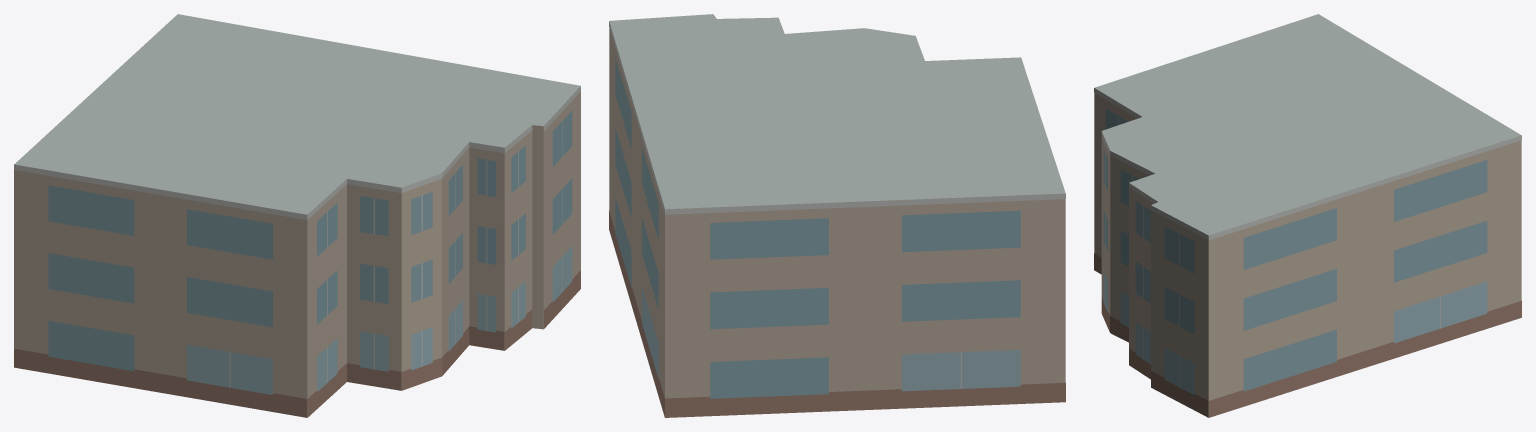
The model's file is survey-upis-32837750.glb.
The picture shows the model from 3 angles, left to right: view 1: azimuth 30°, elevation 25°; view 2: azimuth 150°, elevation 25°; view 3: azimuth 270°, elevation 25°; orthographic projection. The views are drawn at different scales.
Parts seen in each view (by area): view 1: survey-upis-32837750.tmp; view 2: survey-upis-32837750.tmp; view 3: survey-upis-32837750.tmp.
Boxes of the visible parts, box(x1,y1,x2,y2) form: survey-upis-32837750.tmp: box(14, 14, 580, 417); survey-upis-32837750.tmp: box(609, 14, 1065, 417); survey-upis-32837750.tmp: box(1094, 14, 1521, 417).
Size of the model in its own units: 23.85 by 9.15 by 19.46.
